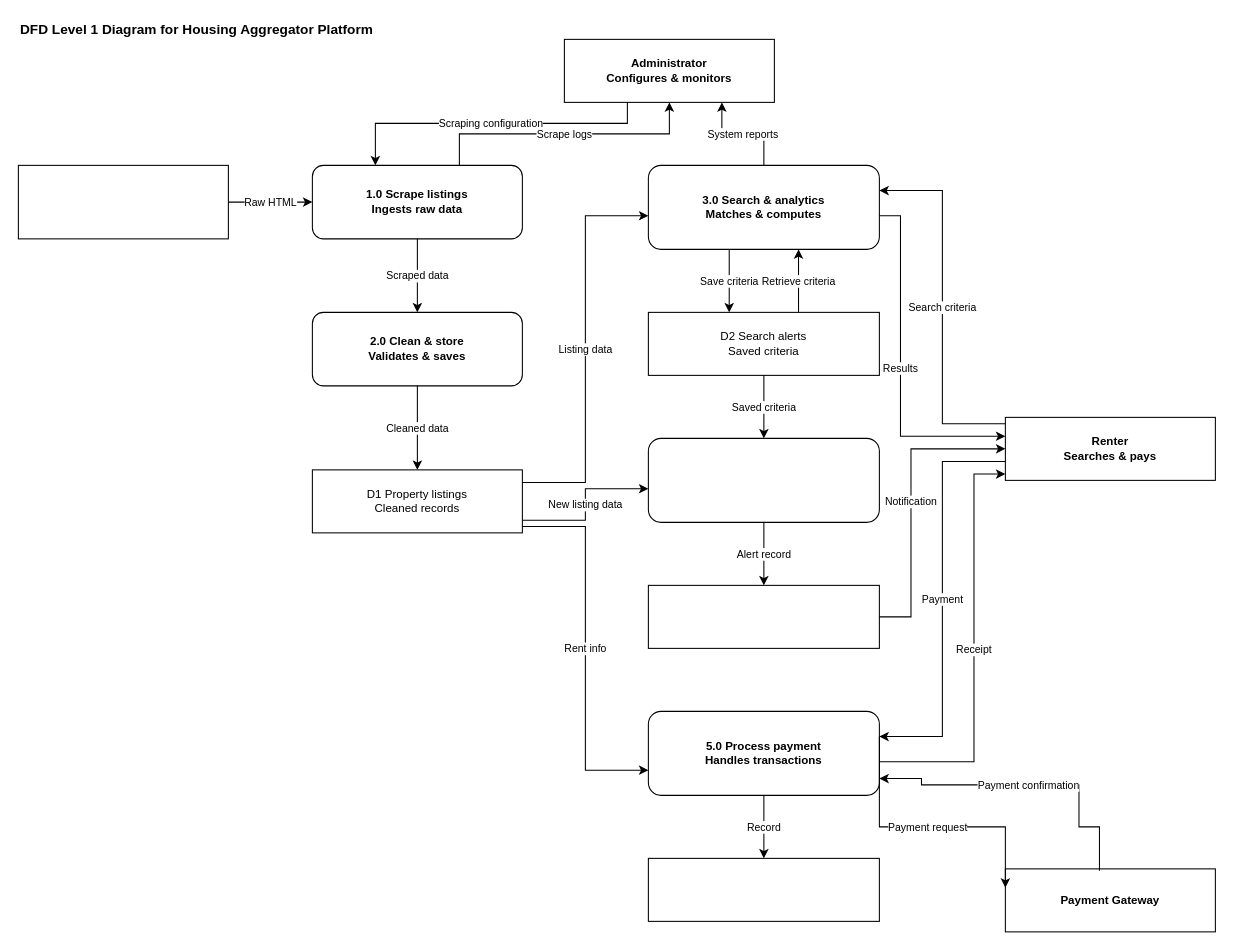
This 1234x950 diagram has some shape labels left out. Each missing label, with the box of its shape:
4.0 Generate notifications Matches alerts: (647, 437, 879, 522)
D3 Notifications Alert records: (647, 584, 879, 648)
D4 Payments Transaction log: (647, 857, 879, 921)
External Real Estate Websites Data source: (17, 164, 228, 239)
